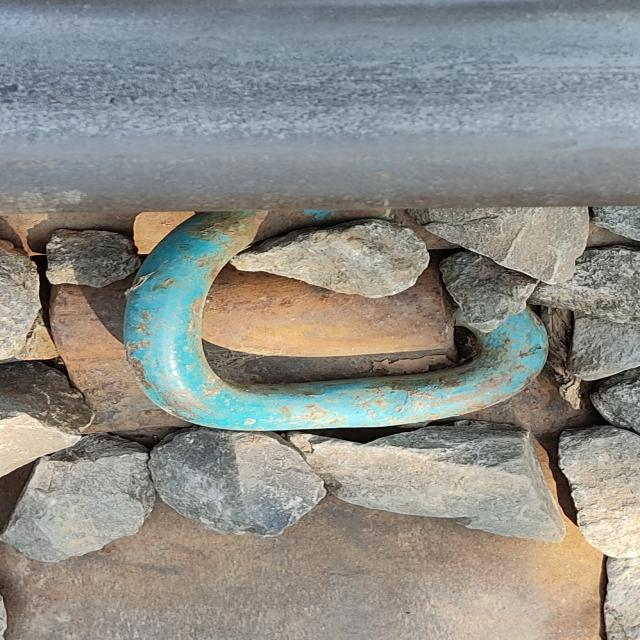track_bolt: (105, 208, 560, 441)
